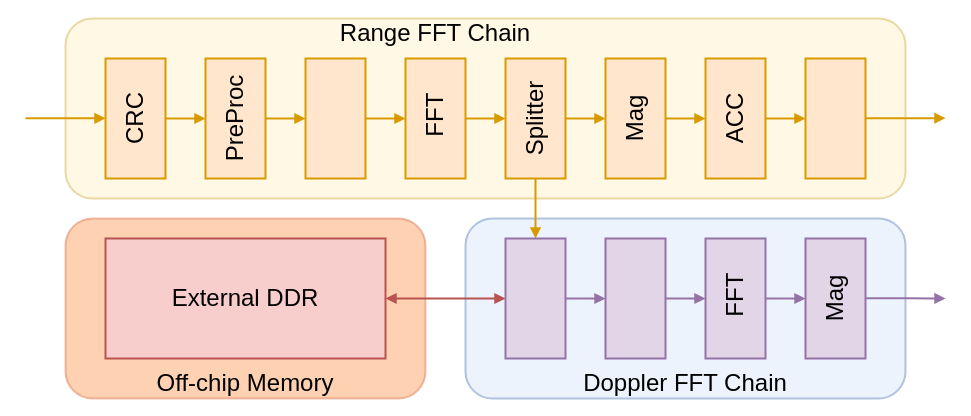
Image size: 971x416. Some labels were removed from this diagram. The centre of each missing label's shape, as x and y in pixels:
CFAR: the point at 835,118
DDR Ctrl: the point at 535,298
Queue: the point at 635,298
Window: the point at 335,118
